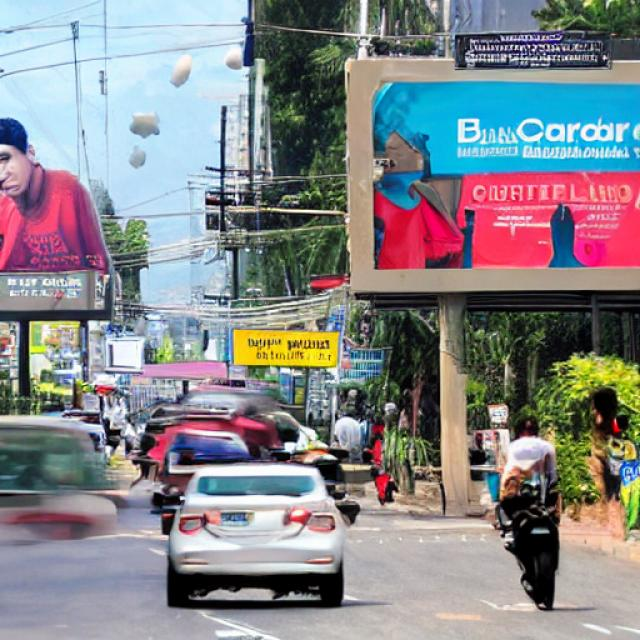Billboard: (345, 54, 640, 306), (0, 113, 118, 317)
